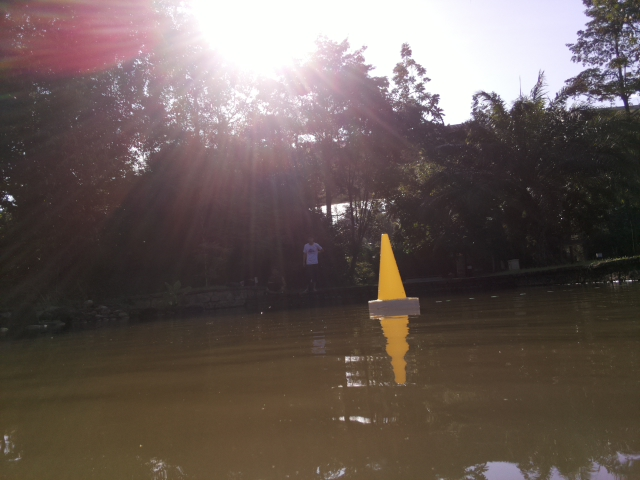checkpoint: (367, 233, 420, 316)
